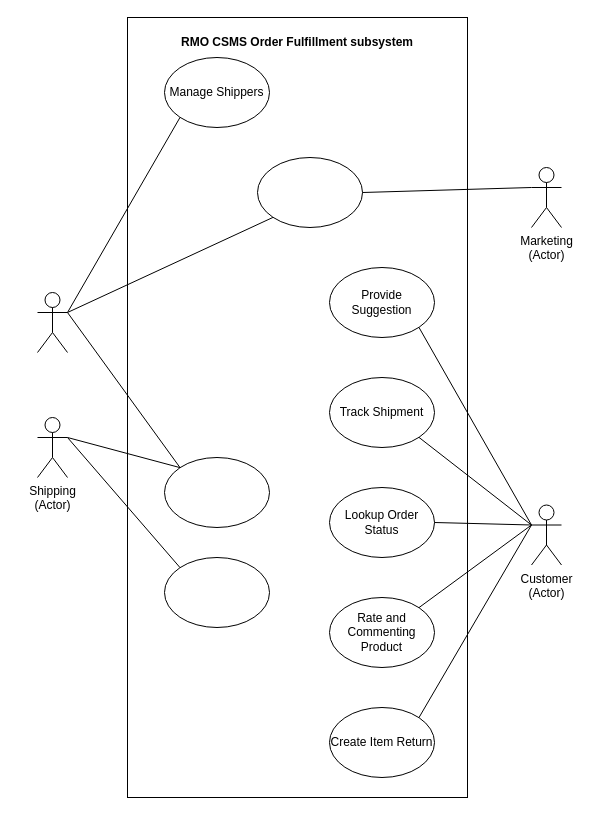
The diagram is 590 pixels wide and 815 high, and some of its shapes have lost their labels. Each missing label, with the centre of its shape:
Create Backorders: pixel 217 492
Management (Actor): pixel 52 322
Review Suggestion: pixel 309 192
Ship Item: pixel 217 592
